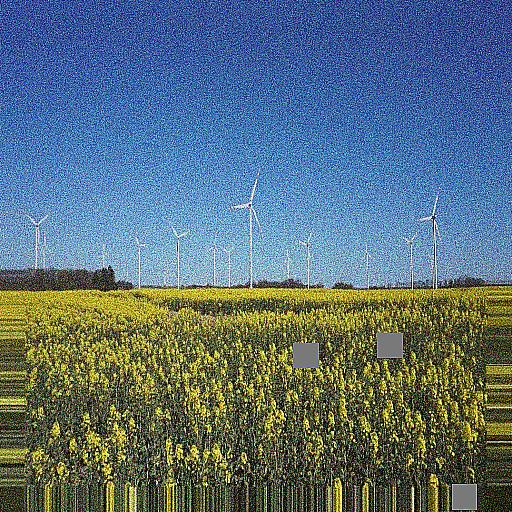wind turbine: (228, 174, 265, 284), (416, 195, 444, 289), (168, 223, 190, 286)
